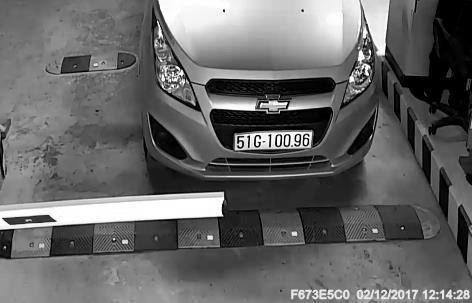License-plate: (228, 127, 321, 156)
